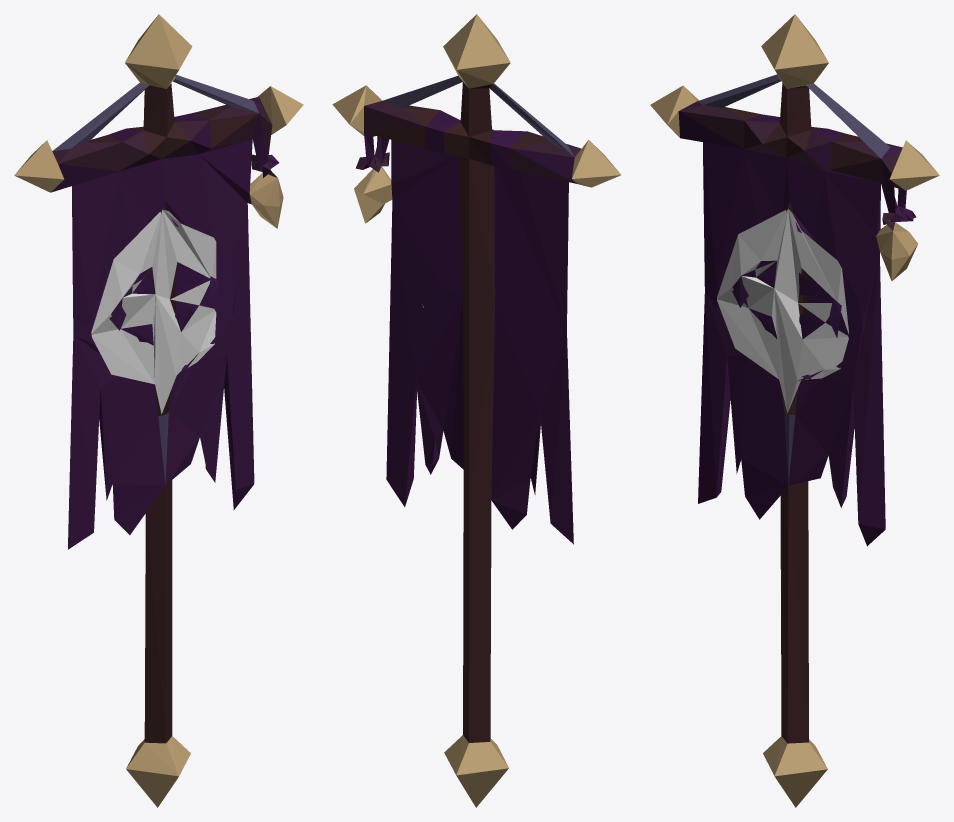
The model's file is aiwpn_banner_lo.glb.
3 renders of one model, left to right at view 1: azimuth 30°, elevation 25°; view 2: azimuth 150°, elevation 25°; view 3: azimuth 330°, elevation 25°, orthographic.
Parts seen in each view (by area): view 1: ca_aiwpn_banner_lo; view 2: ca_aiwpn_banner_lo; view 3: ca_aiwpn_banner_lo.
Boxes of the visible parts, bbox=[...] form: ca_aiwpn_banner_lo: bbox=[14, 14, 303, 807]; ca_aiwpn_banner_lo: bbox=[332, 14, 621, 807]; ca_aiwpn_banner_lo: bbox=[650, 14, 939, 807].
Size of the model in its own units: 0.88 by 2.31 by 0.2176.
